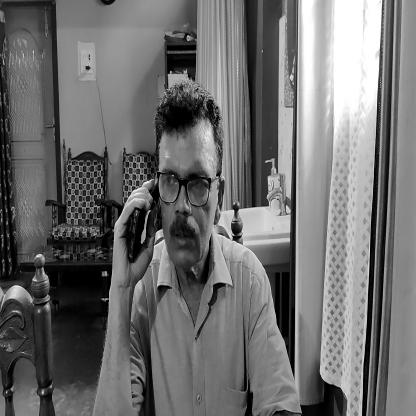Normal: (158, 104, 219, 272)
